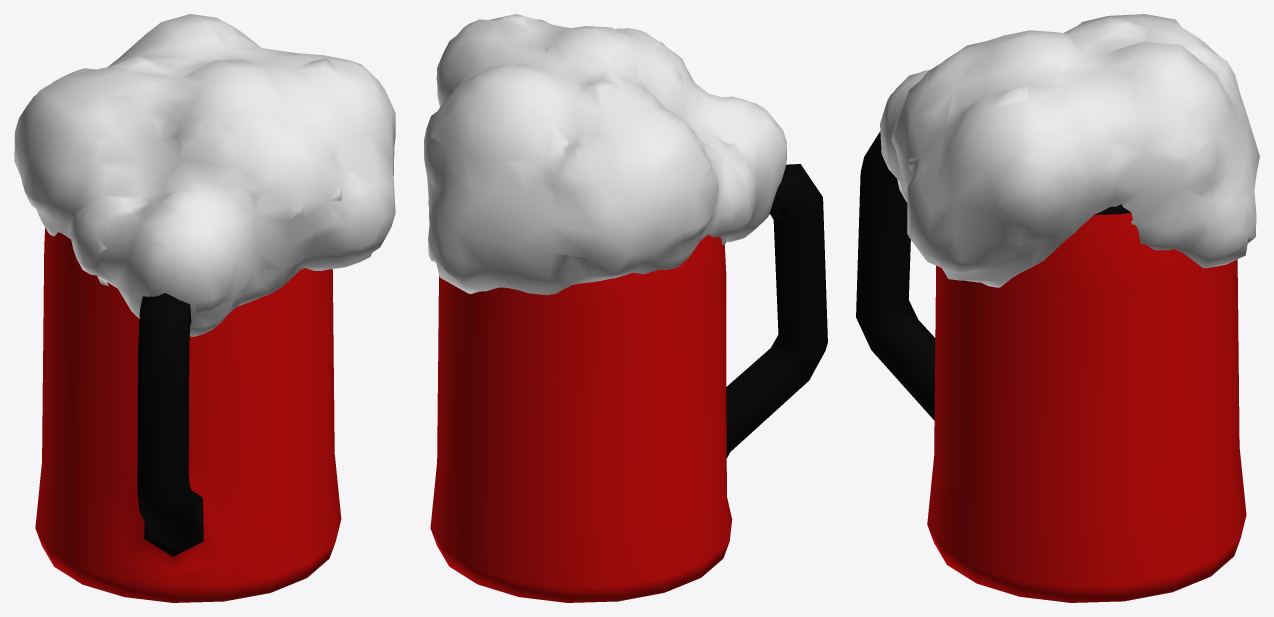
Rendered from SM_BeerGlass.fbx.
3 views of the same model, side by side, from view 1: azimuth 30°, elevation 25°; view 2: azimuth 150°, elevation 25°; view 3: azimuth 270°, elevation 25° (orthographic). The views are drawn at different scales.
Visible parts, largest first — view 1: SM_BeerGlass, Cube.012; view 2: SM_BeerGlass, Cube.012; view 3: SM_BeerGlass, Cube.012.
Part boxes in pixels (box(x1,y1,x2,y2)): SM_BeerGlass: box(35, 228, 341, 602); Cube.012: box(14, 14, 395, 336); SM_BeerGlass: box(430, 164, 827, 602); Cube.012: box(424, 14, 786, 295); SM_BeerGlass: box(856, 131, 1246, 602); Cube.012: box(880, 14, 1259, 287).
Size of the model in its own units: 26.11 by 38.92 by 27.51.
